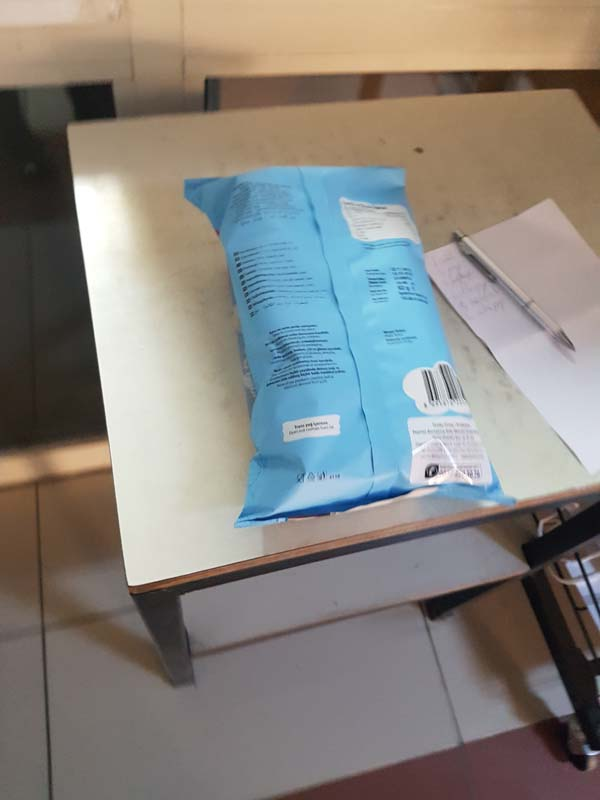popcorn: (180, 164, 532, 514)
